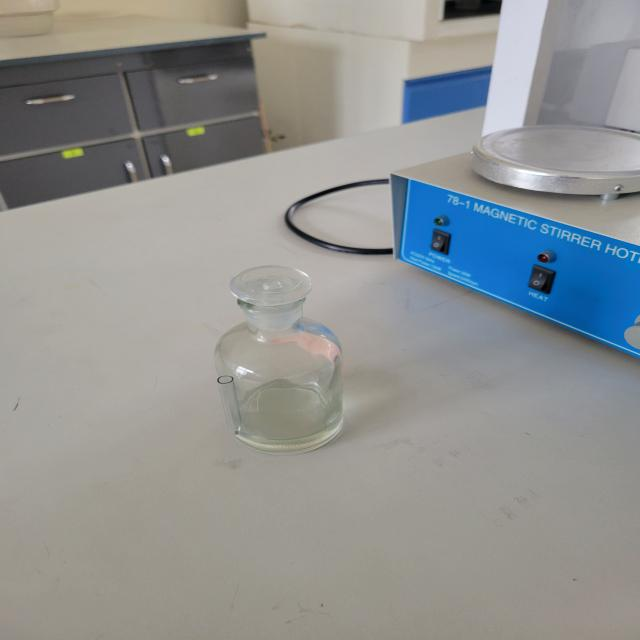Reagent_Bottle: (170, 238, 399, 474)
